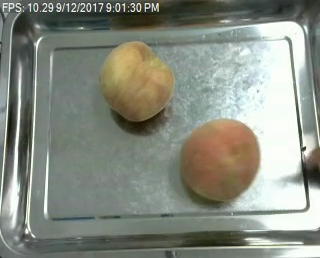Peach: (180, 117, 261, 200), (99, 40, 175, 121)
